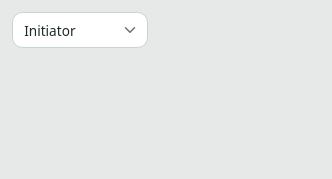
Test: UserRoleCell › shows the backend error when the change fails
Click the dropdown named "Roll för Erik Eriksson": (80,30) [12, 12, 148, 48]
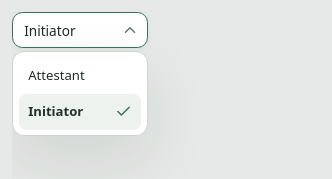
Click the option "Attestant": (56,75) [28, 66, 85, 84]
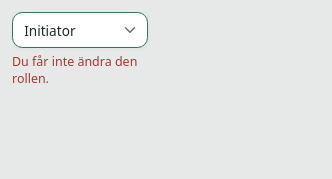
Result: the message reads "Du får inte ändra den rollen." at [12, 53, 137, 87]
